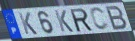6: (37, 11, 55, 36)
B: (105, 5, 129, 31)
C: (90, 6, 111, 31)
K: (53, 9, 75, 33), (17, 12, 39, 35)
R: (68, 7, 94, 33)
